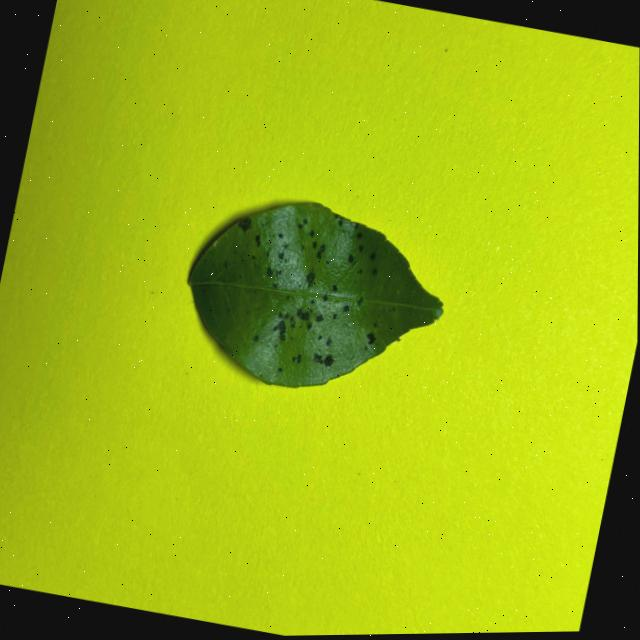sooty_mold: (188, 202, 442, 386)
